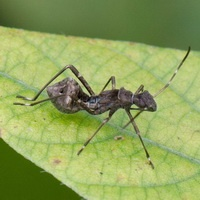insect: (13, 46, 190, 168)
